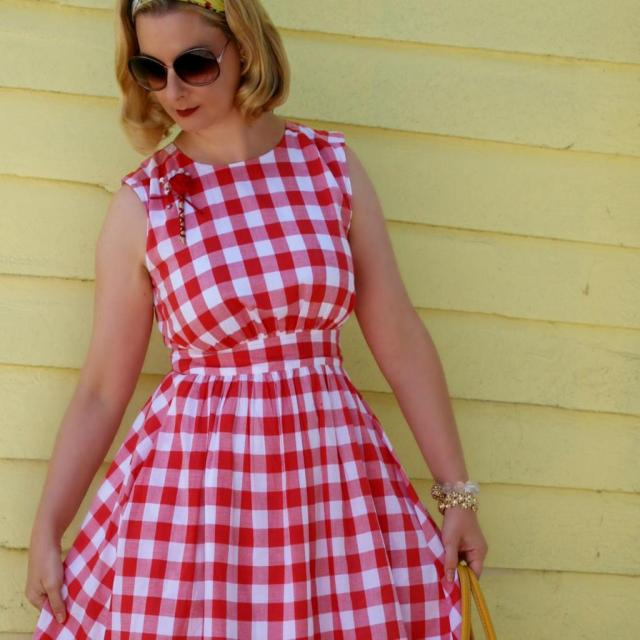Face: (129, 3, 259, 144)
